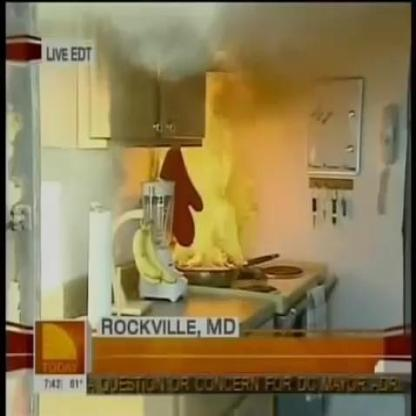fire: (156, 70, 258, 272)
